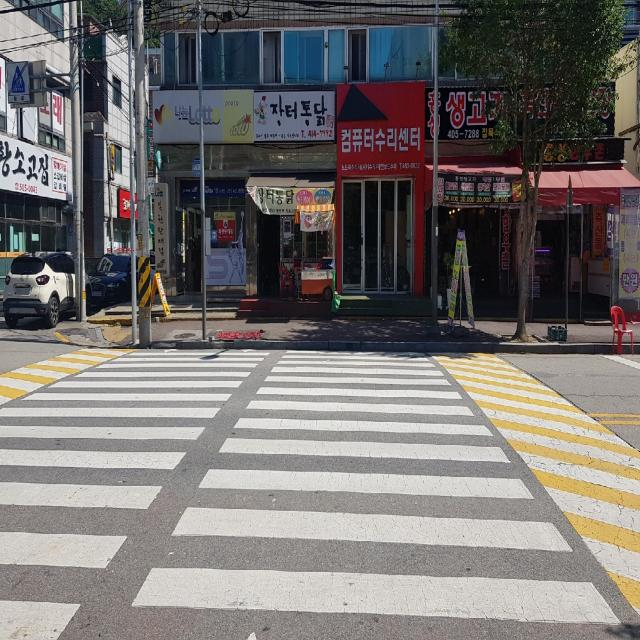횡단보도: (0, 346, 621, 640)
